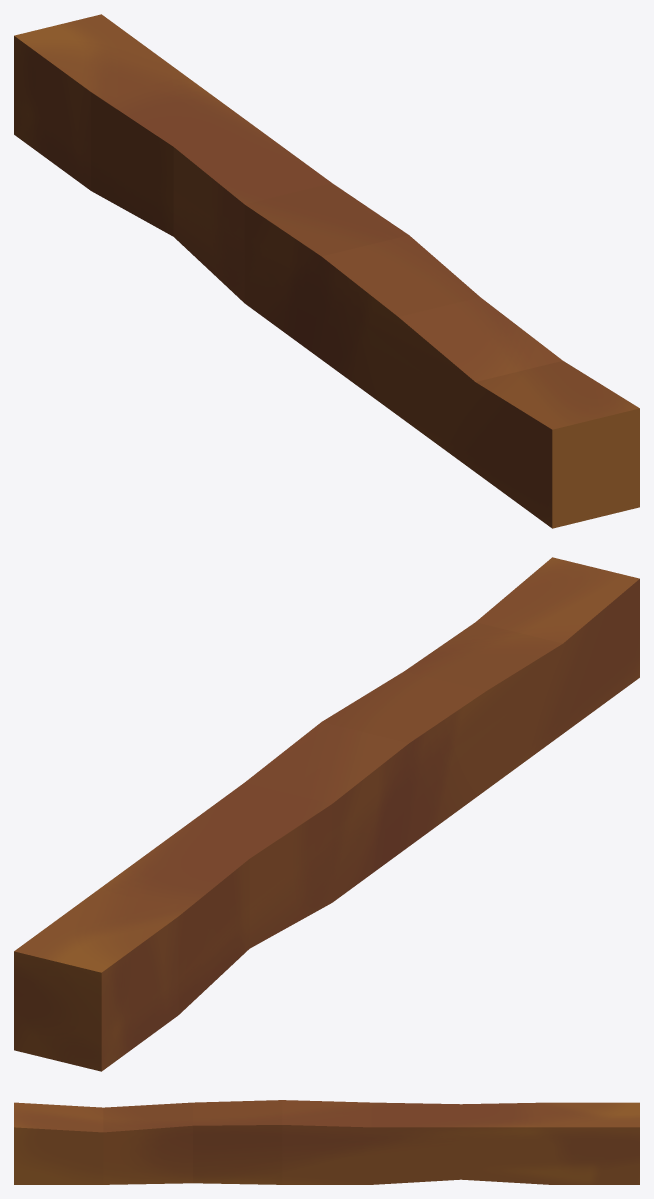
The model's file is RW Pillers 2.fbx.
3 views of the same model, one above another, from view 1: azimuth 30°, elevation 25°; view 2: azimuth 150°, elevation 25°; view 3: azimuth 270°, elevation 25° (orthographic). The views are drawn at different scales.
Visible parts, largest first — view 1: RW Pillers 2; view 2: RW Pillers 2; view 3: RW Pillers 2.
Boxes of the visible parts, bbox=[...] form: RW Pillers 2: bbox=[14, 14, 639, 528]; RW Pillers 2: bbox=[14, 557, 639, 1071]; RW Pillers 2: bbox=[14, 1100, 639, 1184].
Bounding box in the file's own units: 25.67 × 28.91 × 273.
1 material, 1 textured.
